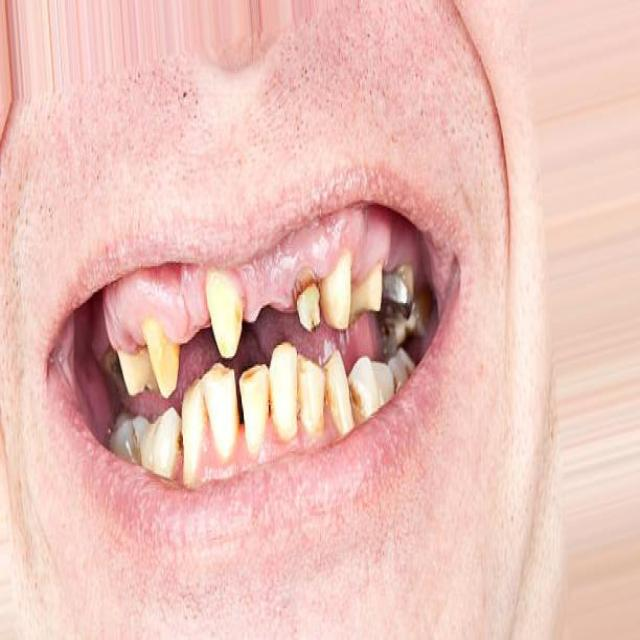caries: (291, 264, 323, 334)
